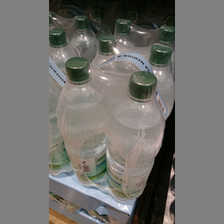water: (106, 71, 166, 202), (58, 56, 108, 187)
